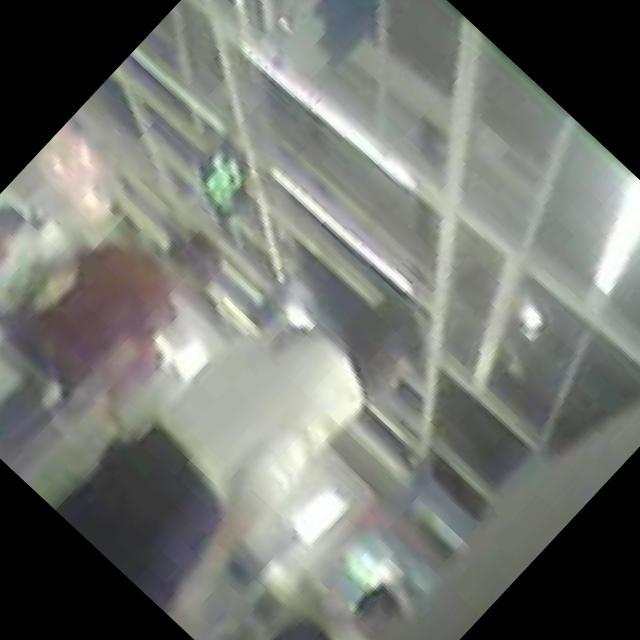person: (58, 222, 454, 629), (14, 184, 237, 410), (231, 600, 369, 640), (0, 192, 42, 301)
